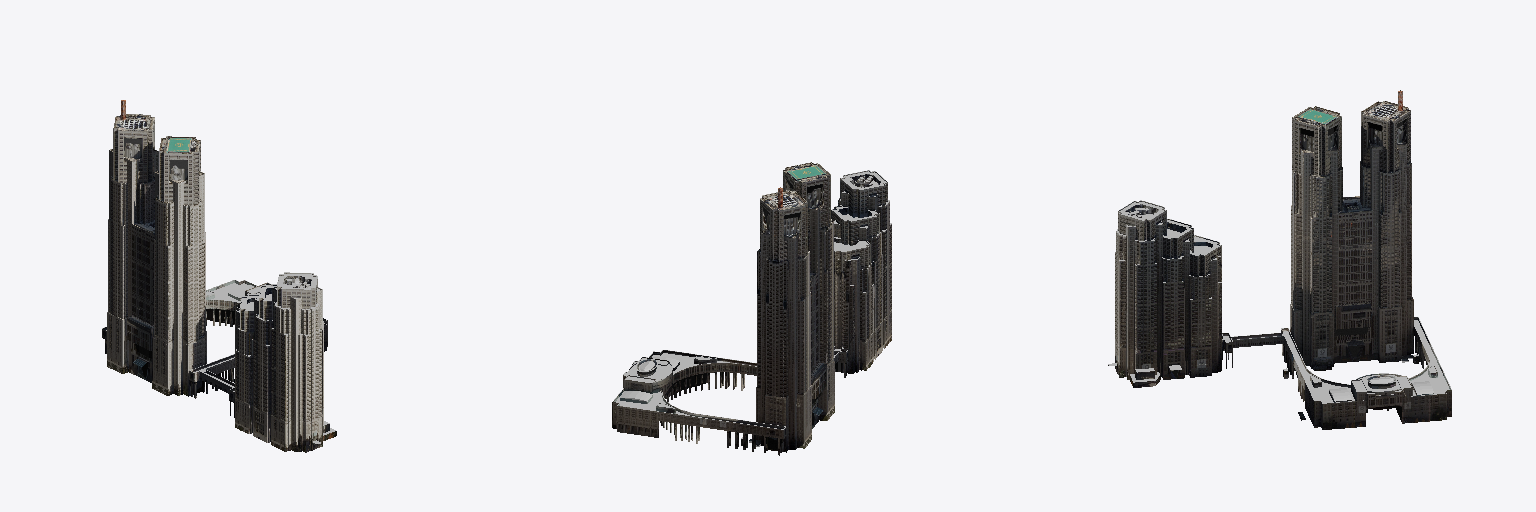
3 views of the same model, side by side, from view 1: azimuth 30°, elevation 25°; view 2: azimuth 150°, elevation 25°; view 3: azimuth 270°, elevation 25° (orthographic).
Parts seen in each view (by area): view 1: [number redacted]_bldg_6677; view 2: [number redacted]_bldg_6677; view 3: [number redacted]_bldg_6677.
Boxes of the visible parts, x1,y1,x2,y2 form: [number redacted]_bldg_6677: [102, 100, 336, 452]; [number redacted]_bldg_6677: [612, 162, 891, 455]; [number redacted]_bldg_6677: [1108, 90, 1451, 429].
Bounding box in the file's own units: 1.97 × 2.62 × 3.16.
Materials: 14 (8 with a texture image).